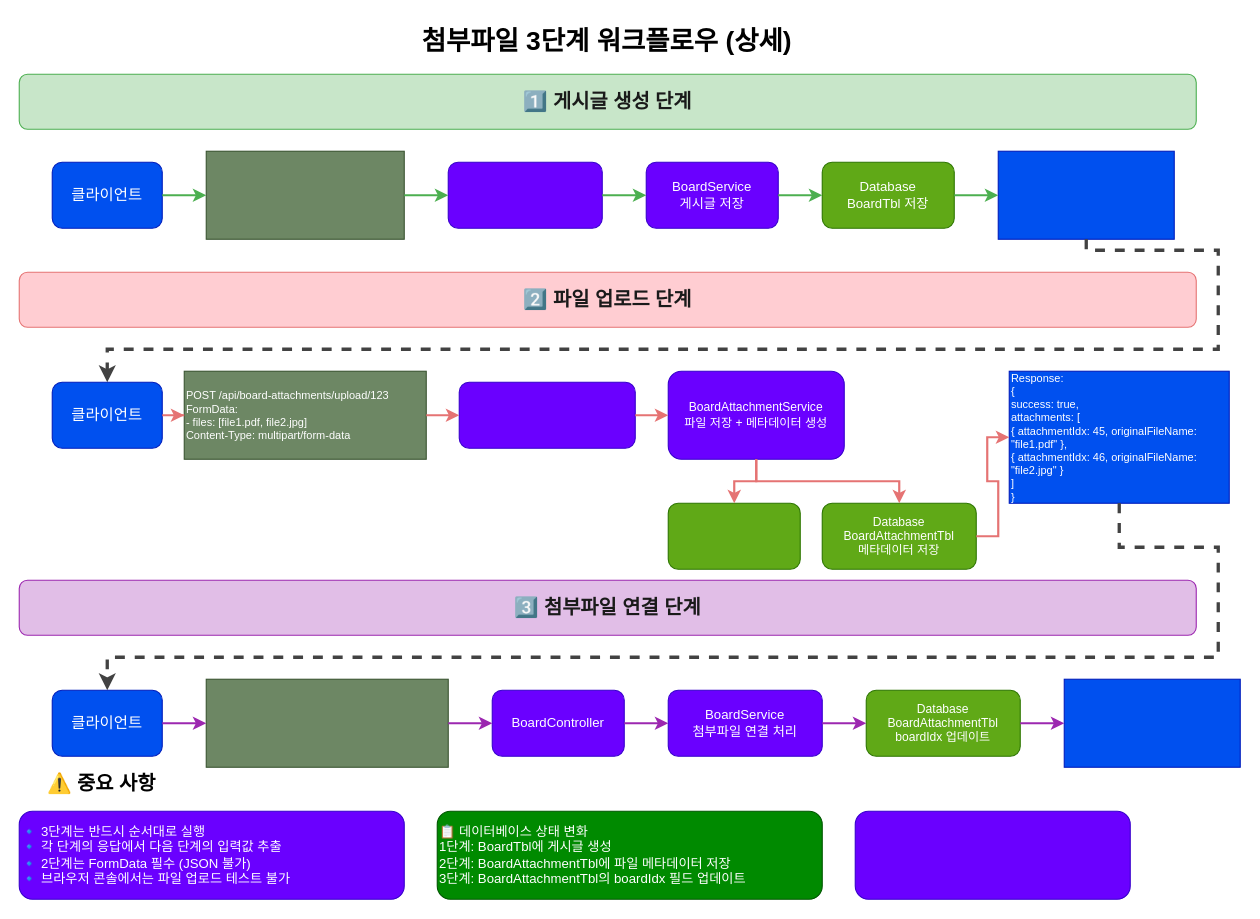
This 1260x919 diagram has some shape labels left out. The centre of each missing label's shape, as x and y in pixels:
BoardAttachmentController: point 546,414
BoardCreateController: point 524,194
POST /api/boards/create { boardTitle: "제목", boardContent: "내용", boardCode: 0-3 }: point 304,194
POST /api/boards/link-attachments/123 { attachmentIdxList: [45, 46] }: point 326,722
Response: { success: true, boardIdx: 123, boardTitle: "제목" }: point 1085,194
Response: { success: true, message: "첨부파일 연결 완료" }: point 1151,722
파일 시스템 실제 파일 저장: point 733,535
🔐 보안 고려사항 • 모든 단계에서 JWT 토큰 검증 • 파일 크기 및 타입 검증 • 업로드 경로 보안 설정 • 사용자별 권한 체크: point 992,854
